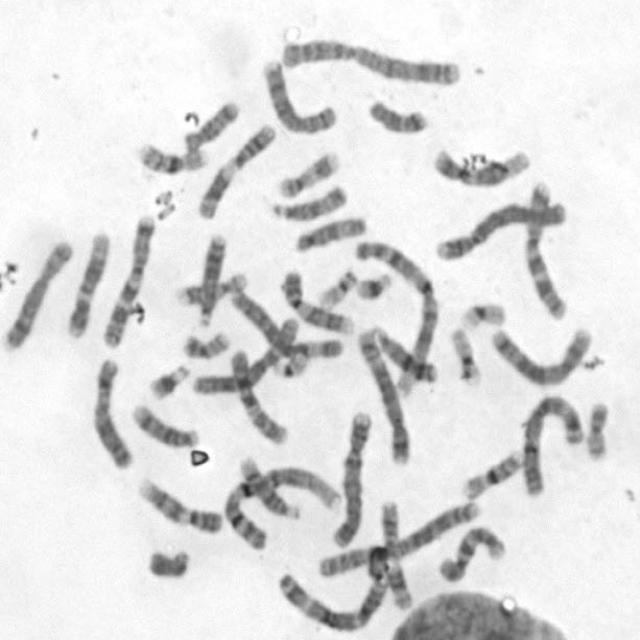A1: (351, 232, 439, 394), (218, 458, 344, 552)
A2: (314, 495, 484, 580), (278, 33, 464, 87)
A3: (272, 566, 391, 634), (518, 388, 586, 498)
B4: (430, 194, 568, 263), (328, 403, 375, 549)
B5: (354, 321, 413, 465), (489, 320, 594, 387)
C10: (228, 344, 292, 446), (432, 518, 508, 584)
C11: (193, 118, 279, 221), (372, 494, 414, 612)
C12: (61, 224, 112, 339), (429, 143, 532, 189)
C6: (188, 312, 300, 396), (228, 287, 346, 361)
C7: (98, 210, 157, 350), (518, 174, 570, 321)
C8: (0, 233, 75, 354), (258, 53, 339, 136)
C9: (133, 472, 225, 535), (276, 267, 355, 336)
D13: (366, 320, 439, 384), (193, 228, 230, 329)
D14: (235, 452, 303, 522), (126, 398, 202, 449)
D15: (266, 180, 349, 223), (291, 210, 370, 254)
E16: (458, 444, 525, 501), (130, 137, 209, 176)
E17: (272, 143, 342, 199), (172, 266, 250, 308)
E18: (180, 94, 242, 150), (362, 93, 430, 136)
F19: (446, 321, 482, 386), (456, 295, 508, 331)
F20: (581, 394, 612, 462), (178, 326, 232, 360)
G21: (145, 358, 191, 401), (349, 266, 394, 301)
G22: (315, 264, 359, 310), (268, 347, 311, 380)
X: (88, 351, 136, 471)
Y: (143, 543, 193, 580)
